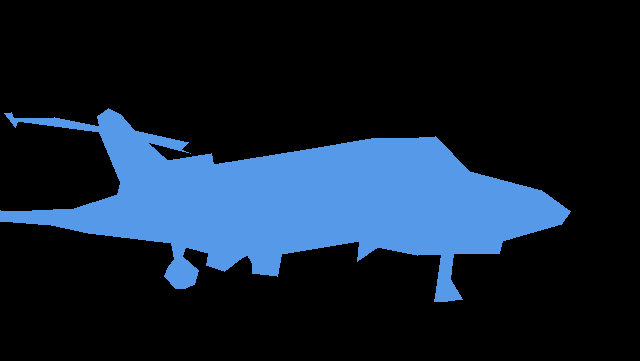Airplane: (0, 108, 570, 302)
